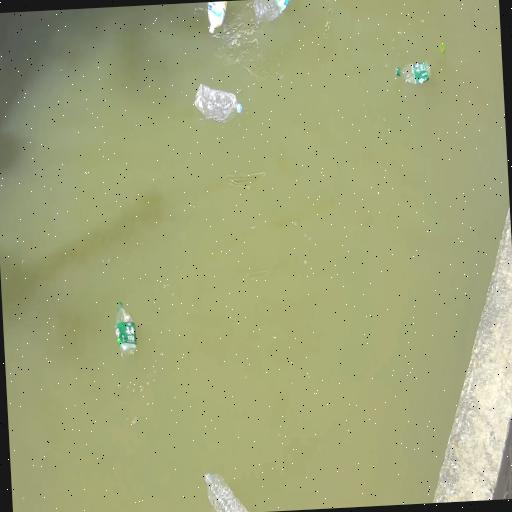plastic: (195, 85, 242, 122), (205, 474, 247, 511), (115, 302, 137, 361), (395, 62, 430, 84), (208, 1, 227, 34)
